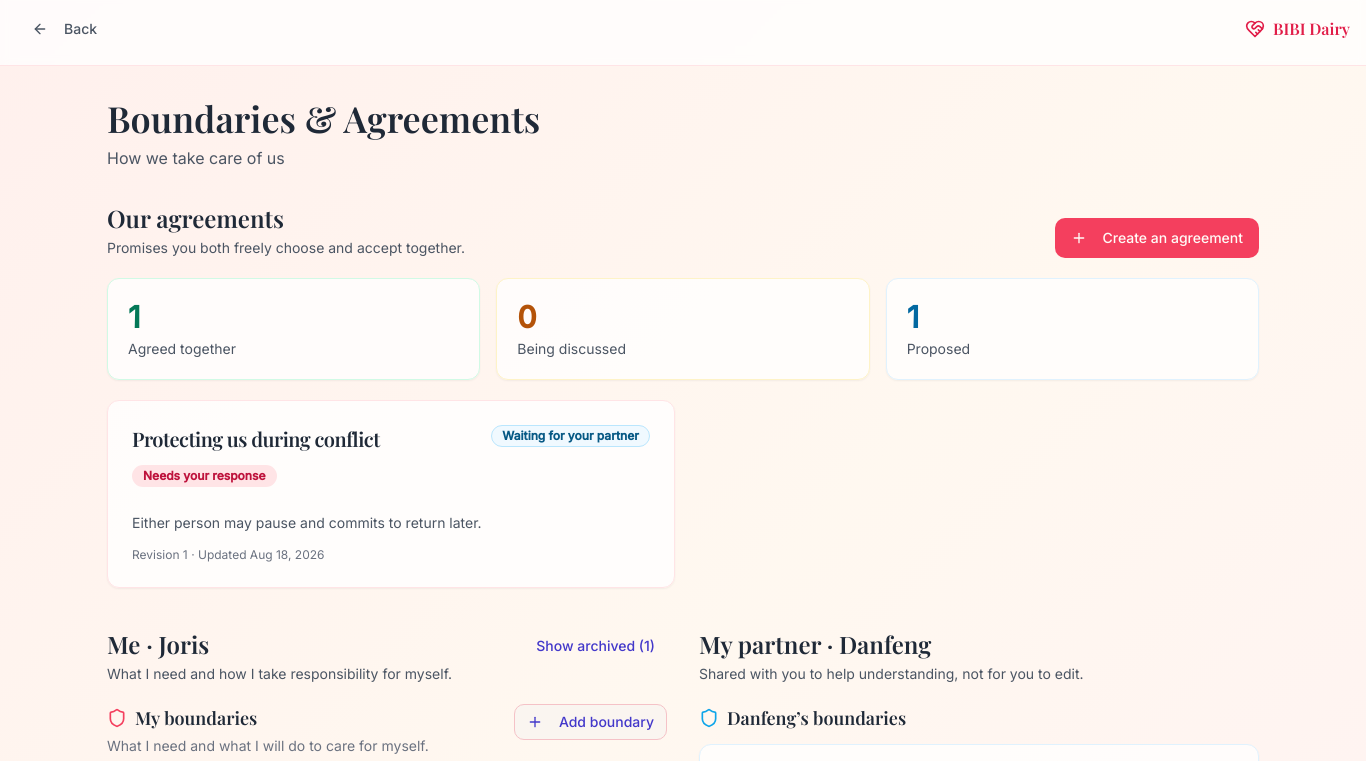
Test case: RelationshipCareOverviewPage › shows and restores the current user’s archived personal items
Later steps or results of the test are not shown.
Click the button "Show archived (1)". click: (596, 646)
box: [524,628,667,664]
(page scrolled)
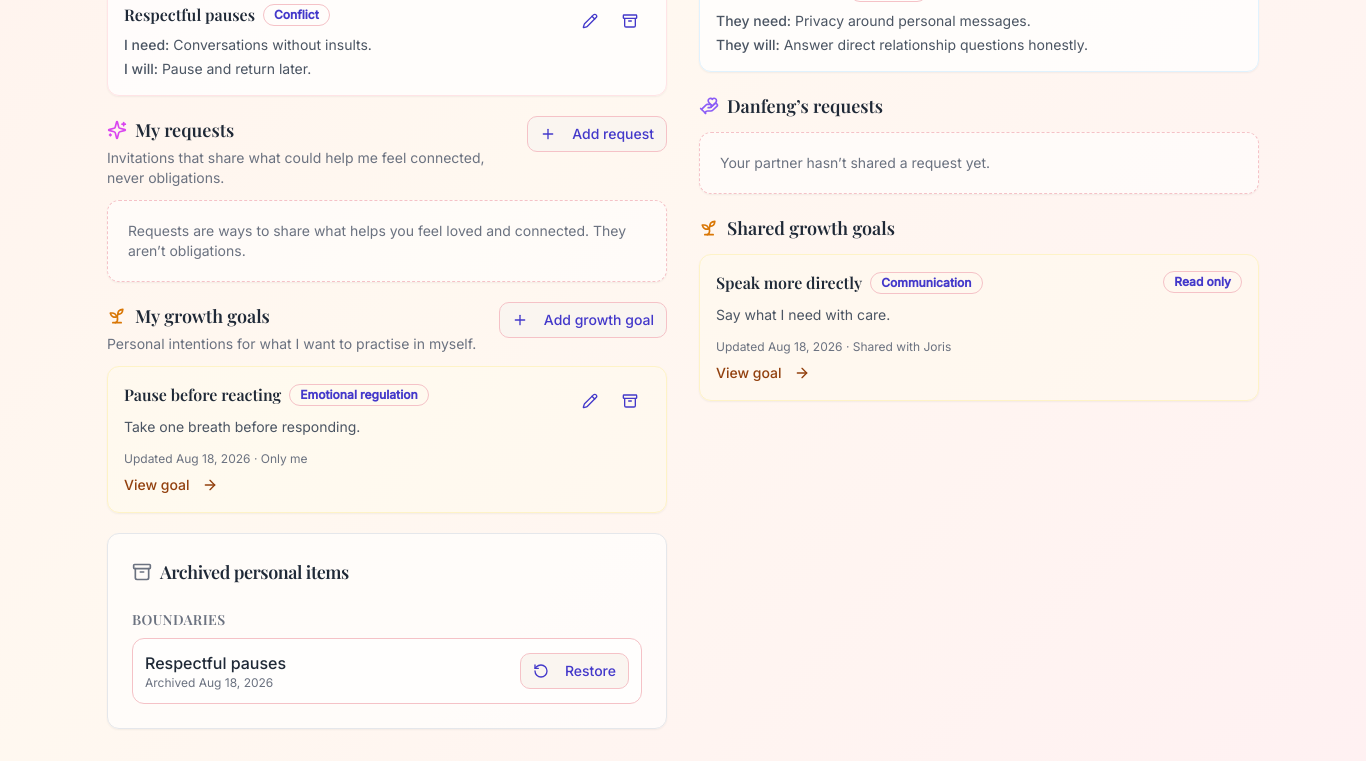
Expected: the heading "Archived personal items" is shown, [132,560,349,584]
